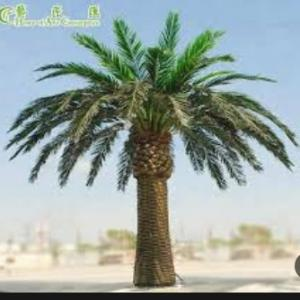palm tree: (4, 10, 299, 288)
